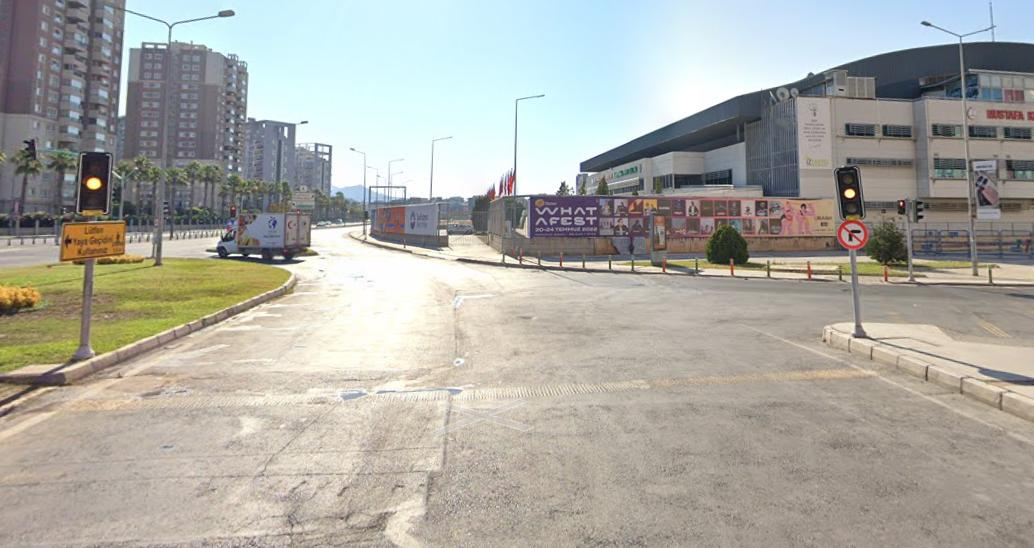redlight: (230, 205, 237, 219)
rightturnsareforbidden: (835, 220, 868, 248)
yellowlight: (79, 151, 106, 223), (834, 167, 863, 220)
